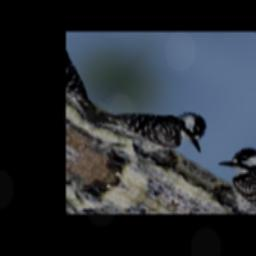Woodpecker: (79, 71, 222, 194)
